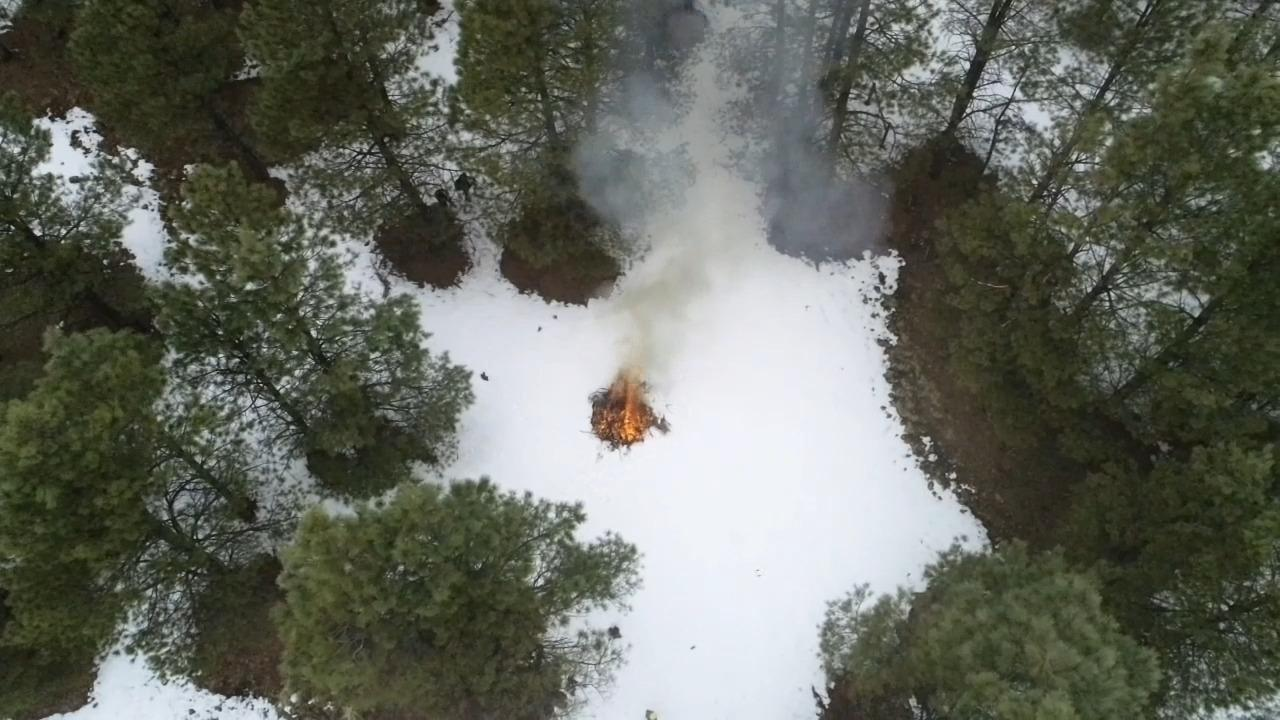fire: (583, 357, 661, 451)
smoke: (575, 63, 710, 248), (770, 143, 893, 257)
